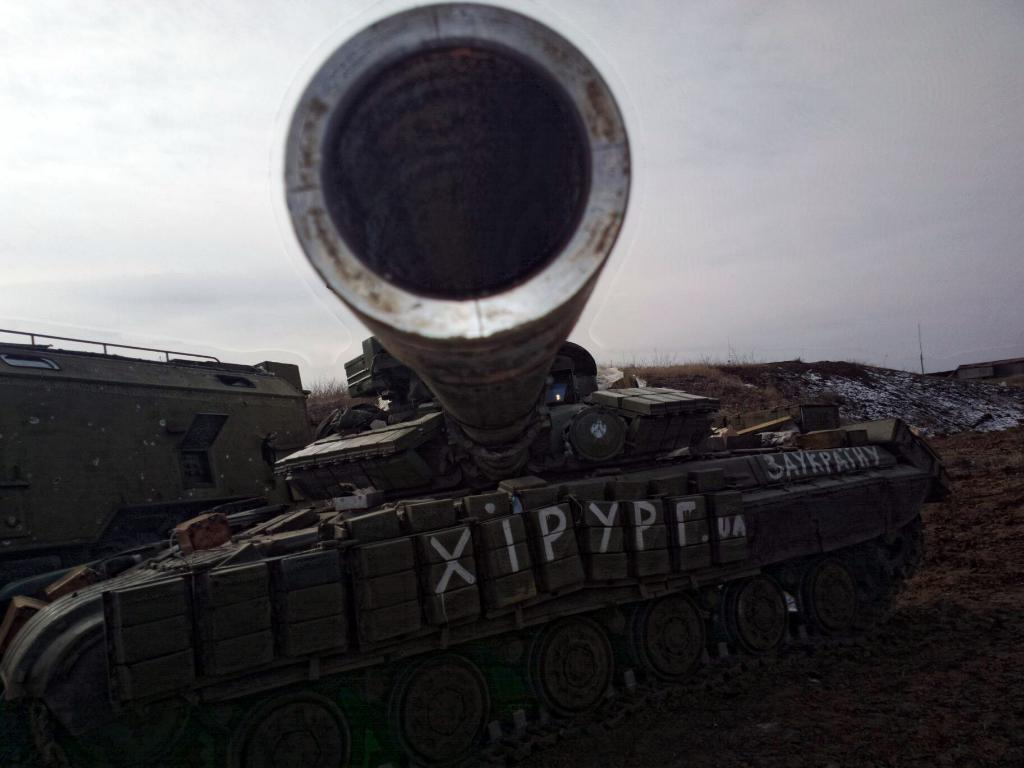Tank: (0, 4, 953, 767)
